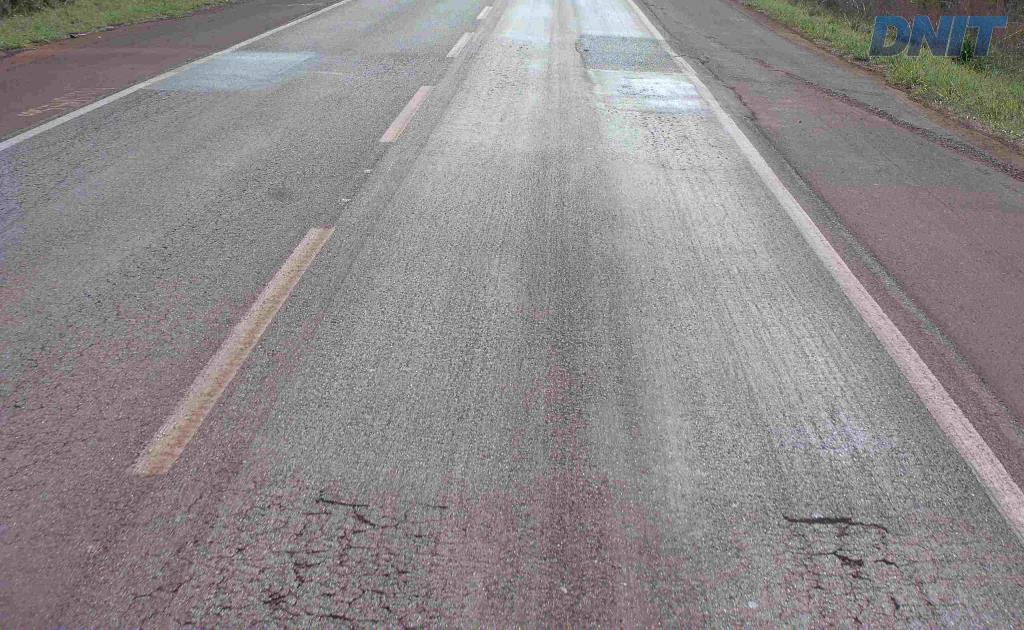crack: (782, 514, 889, 540)
